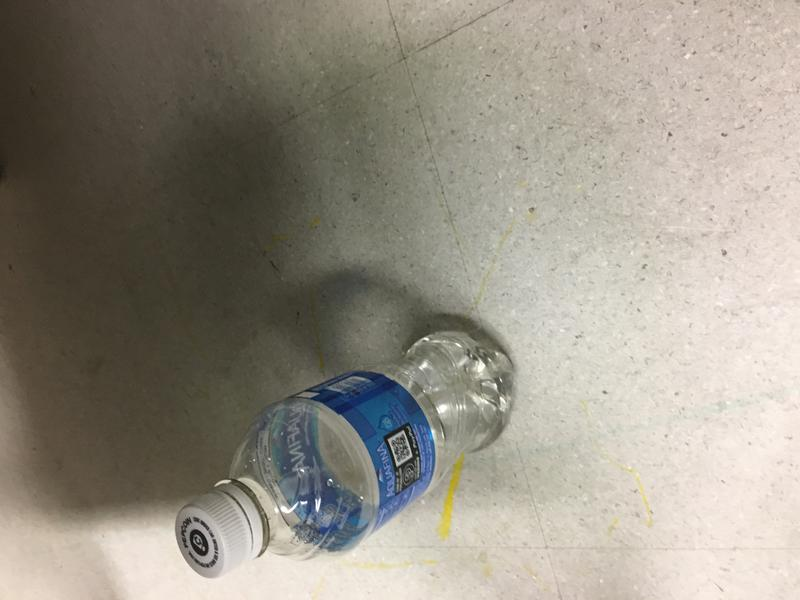bottle: (173, 328, 514, 582)
